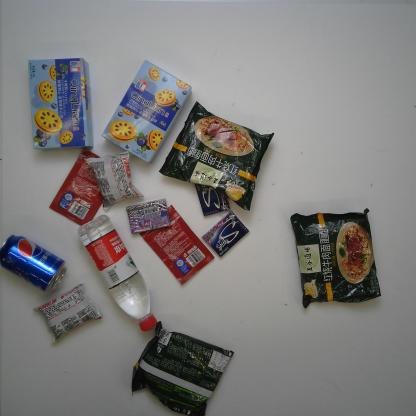Dessert: (99, 59, 193, 166), (26, 56, 96, 153), (30, 281, 104, 346), (81, 150, 144, 211)
Drink: (75, 211, 159, 333), (0, 231, 70, 296)
Gum: (202, 209, 250, 259), (126, 197, 172, 236), (194, 183, 232, 217)
Instant Noodles: (155, 99, 276, 213), (122, 321, 235, 416), (289, 205, 383, 311)
Seasoner: (136, 203, 215, 286), (46, 148, 117, 228)
